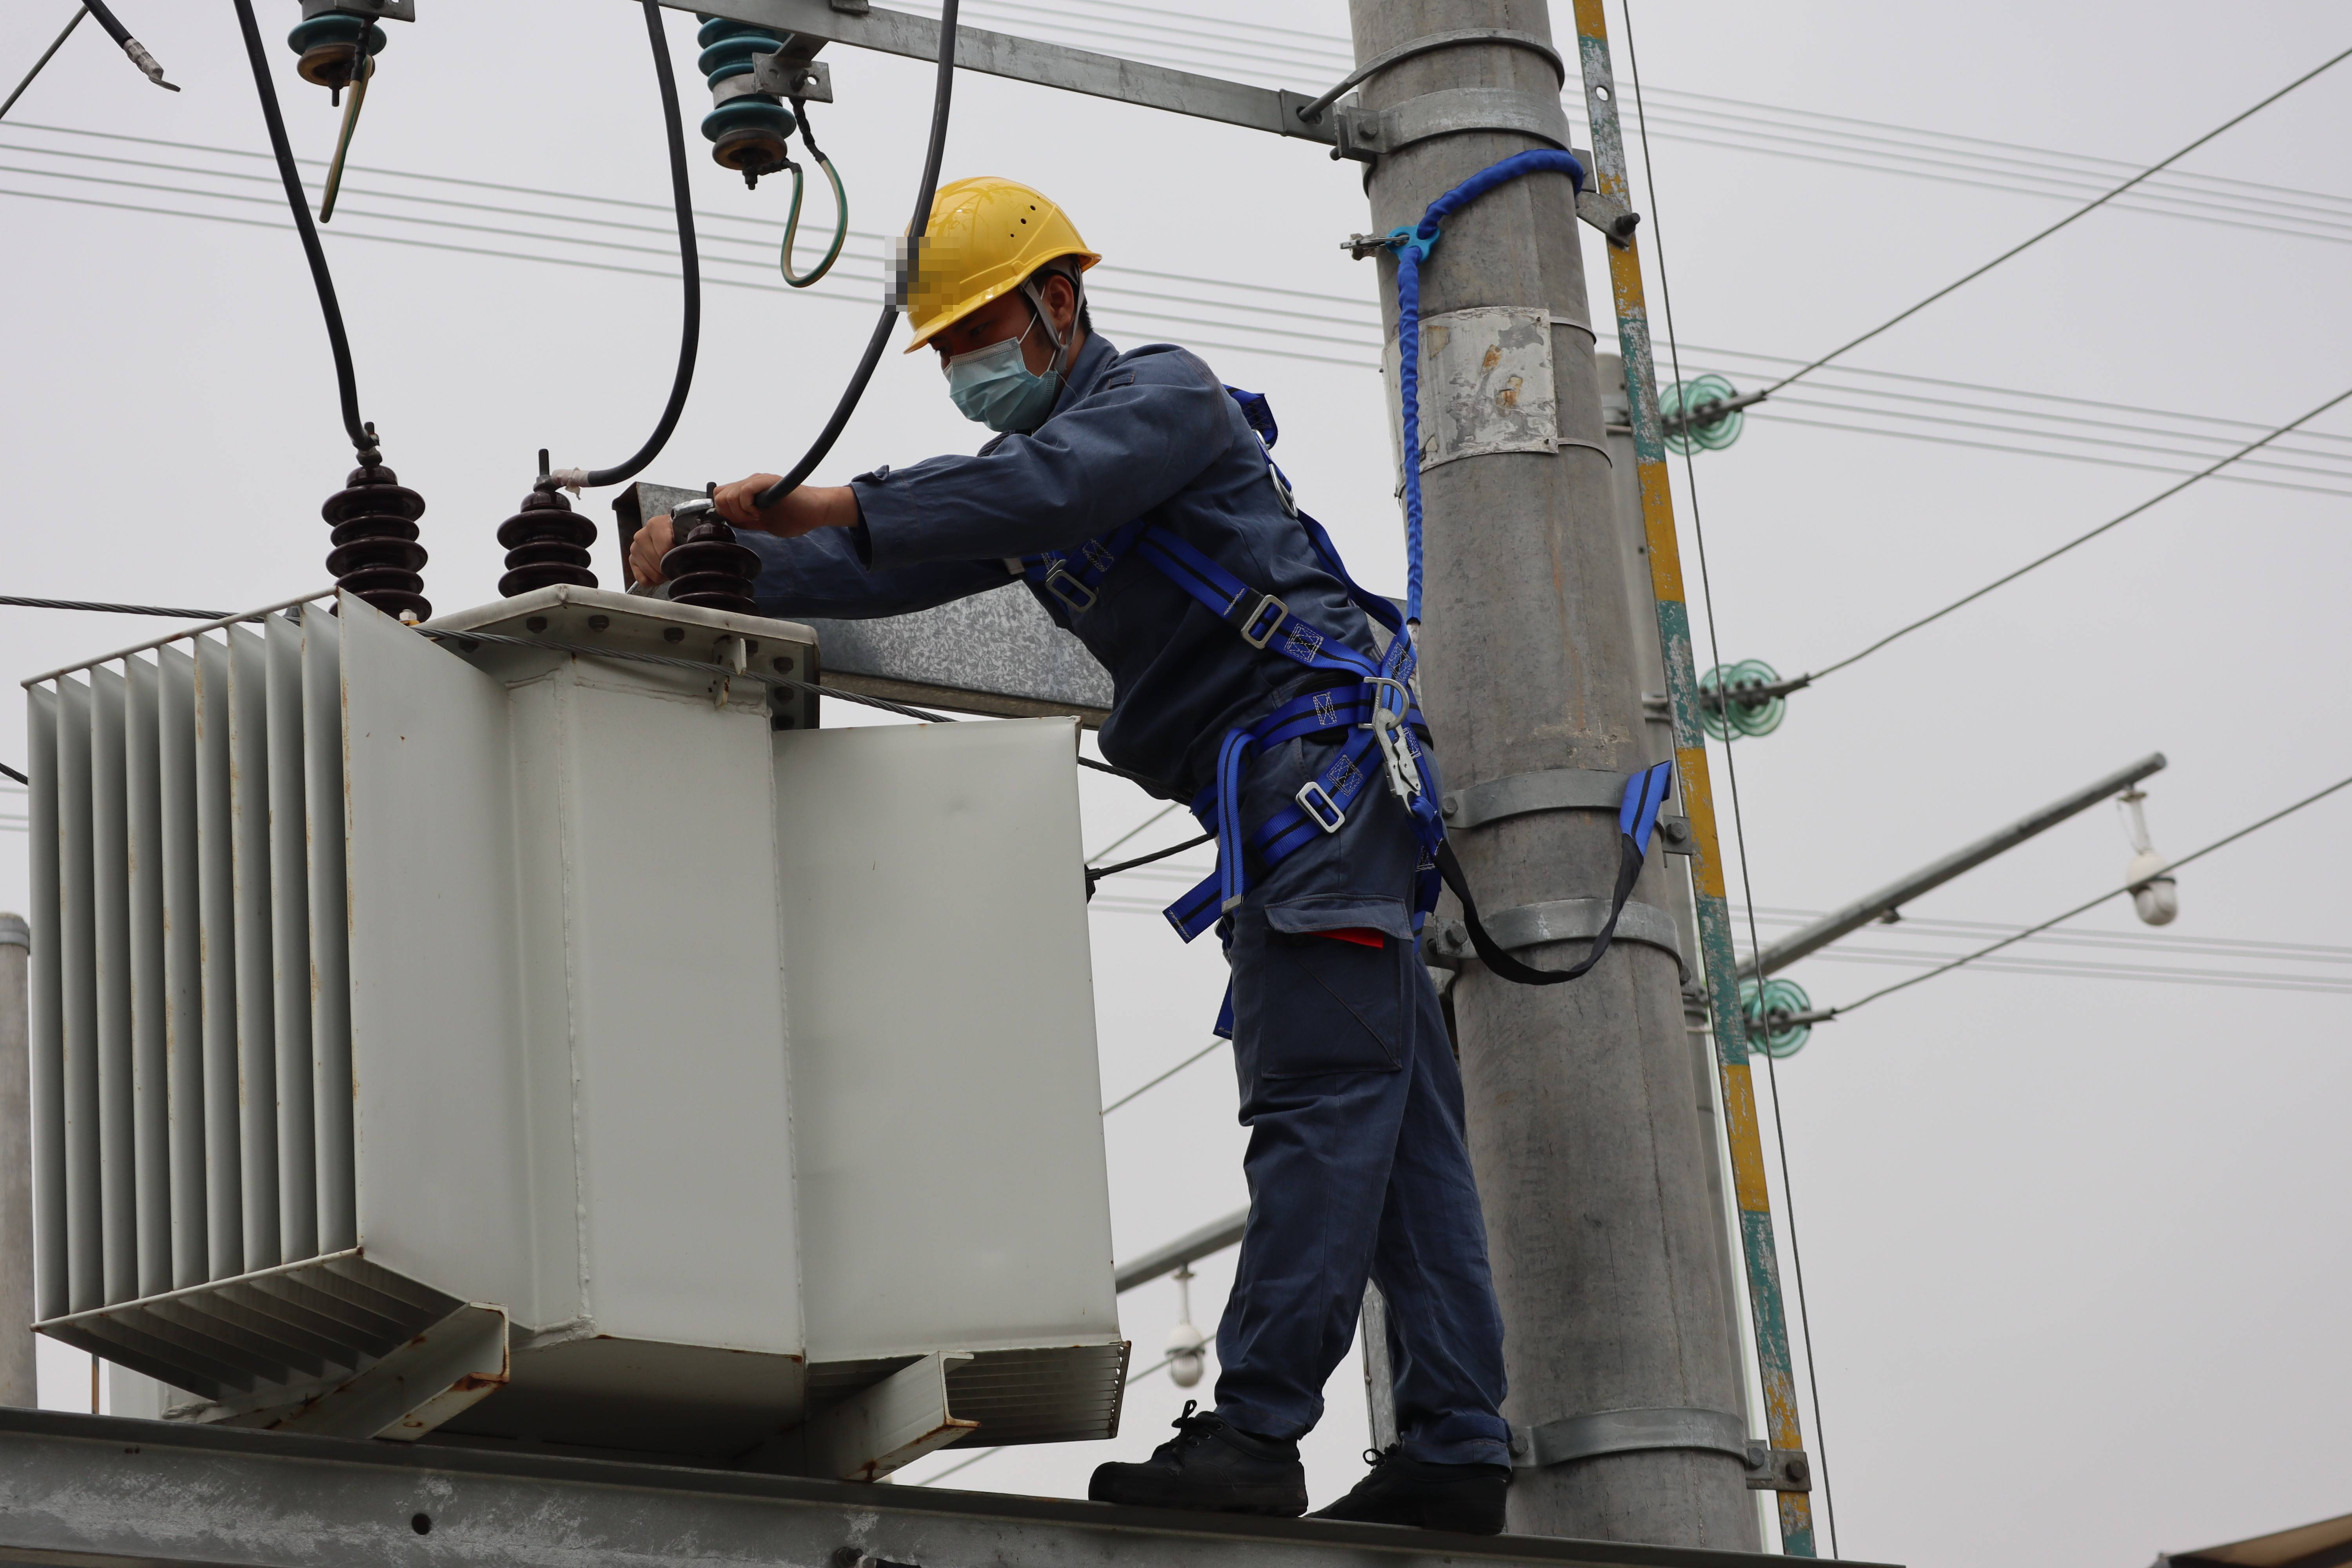downsuit: (1172, 719, 1500, 1451)
upsuit: (866, 366, 1375, 747)
